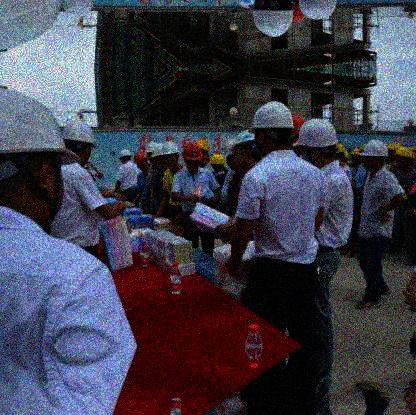helmet: (1, 85, 80, 222), (248, 101, 294, 156), (292, 120, 339, 168), (62, 121, 99, 167), (230, 128, 254, 170), (361, 138, 389, 174), (182, 143, 203, 173), (161, 143, 179, 168), (208, 154, 225, 173), (151, 142, 165, 165), (135, 152, 150, 171), (401, 150, 416, 167), (394, 146, 409, 163), (120, 150, 133, 164), (335, 143, 344, 163), (351, 147, 362, 162)
